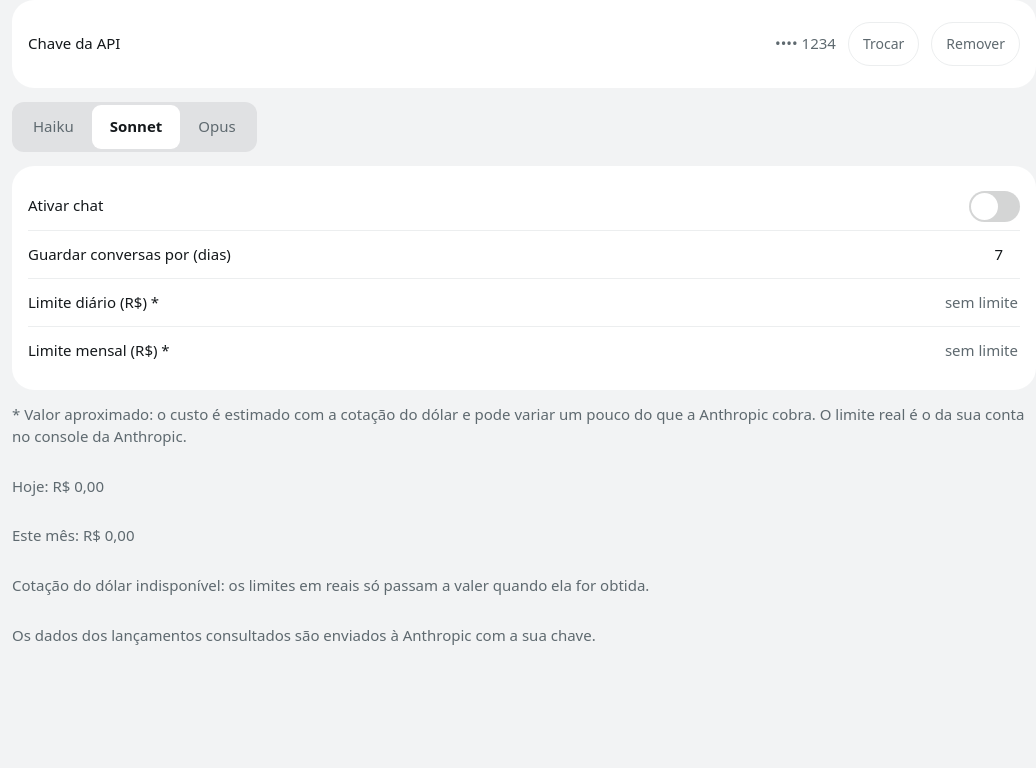
it: Assistant screen › a retention outside 1 to 30 shows an error and sends nothing
Clear the number field labelled "Guardar conversas por (dias)" at (733, 254), box [447,243,1020,266]
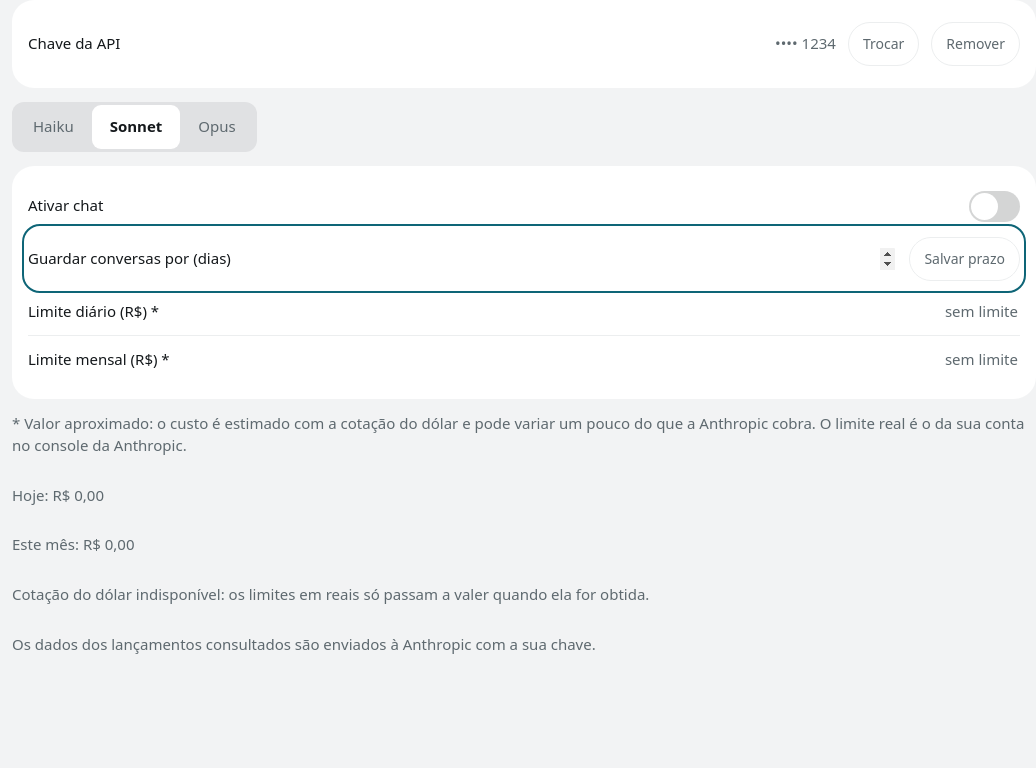
Type "45" into the number field labelled "Guardar conversas por (dias)" at (646, 259), box [396,247,897,271]
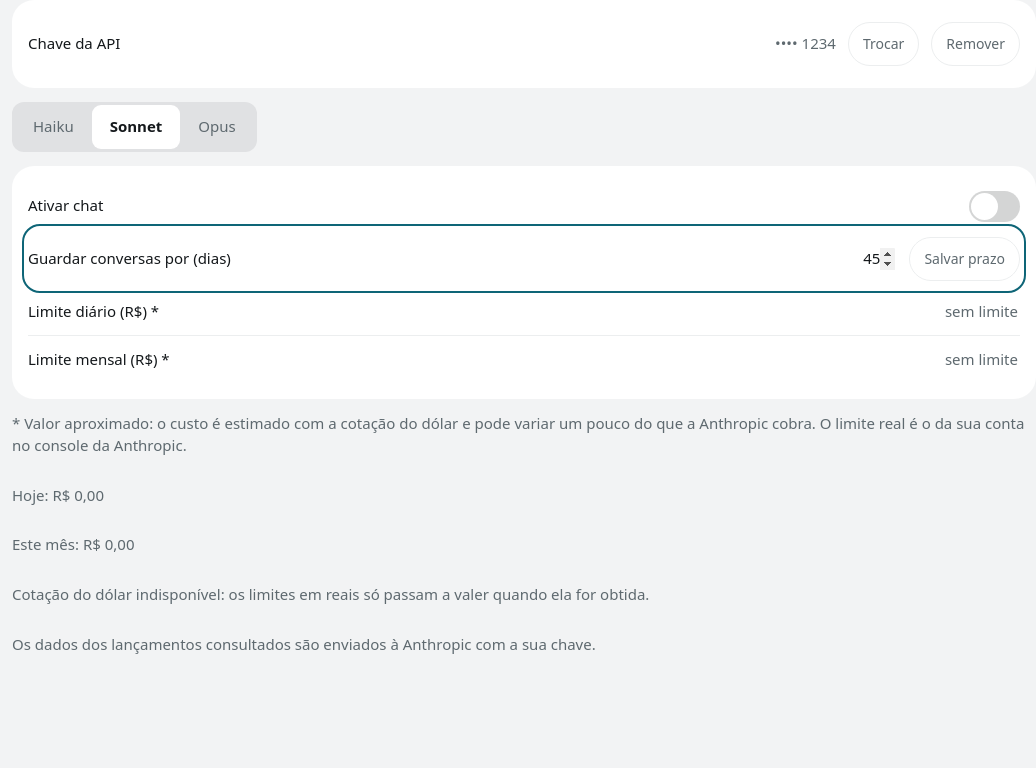
Click the button "Salvar prazo" at (965, 259), box [909,237,1020,281]
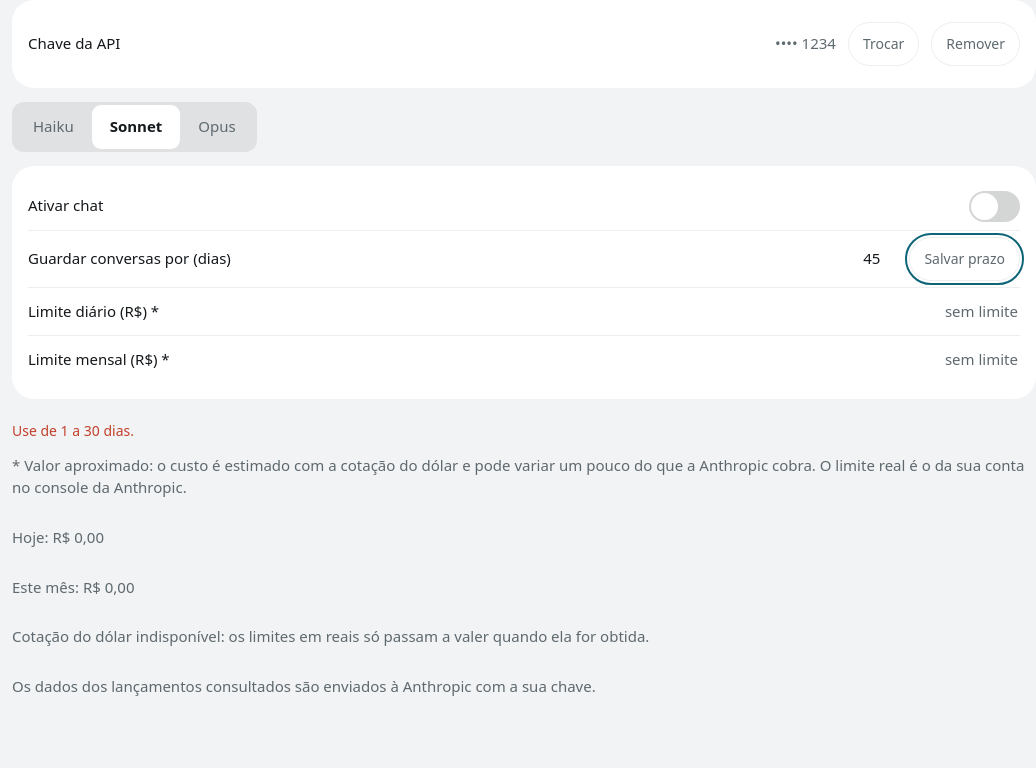
Expected: the text "Use de 1 a 30 dias." is shown, [12,421,134,440]
